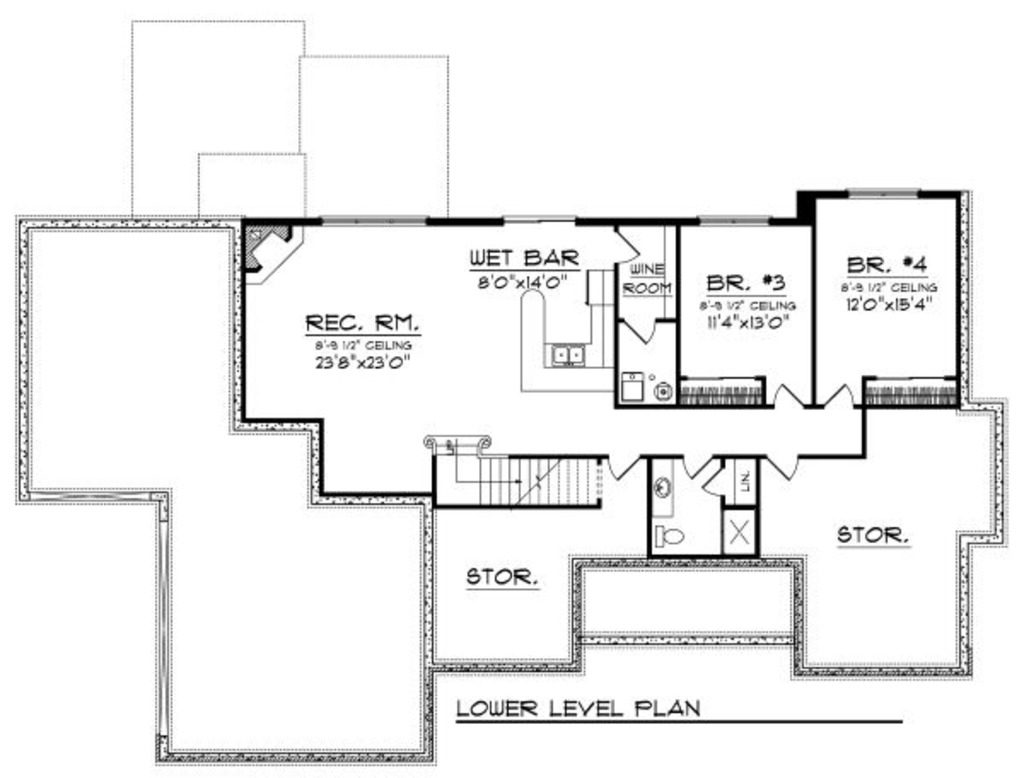door: (824, 372, 863, 414), (618, 311, 664, 346), (604, 449, 642, 485), (766, 449, 802, 486), (701, 456, 729, 500), (769, 380, 805, 411), (613, 231, 645, 264), (681, 453, 709, 478)
large_sink: (651, 517, 687, 553)
small_sink: (649, 461, 673, 513)
stairs: (407, 425, 605, 516)
twin_sink: (540, 337, 595, 369)
window: (694, 206, 777, 233), (496, 208, 583, 231), (311, 215, 433, 230), (845, 183, 921, 204)
